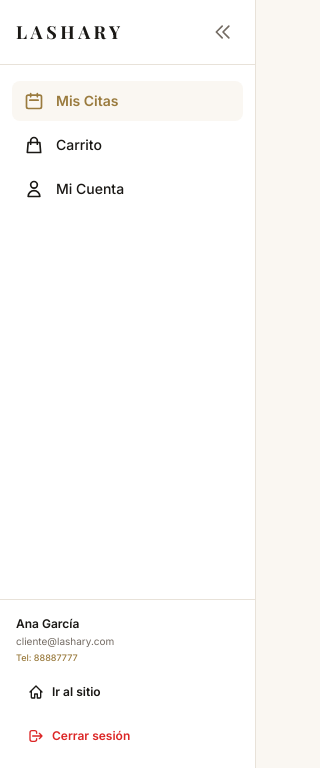
it: US-AUTH-02: Autenticación de Clientas con Google y Teléfono › Criterio 5: Renderiza ClientSidebar con navegación (Citas, Carrito, Cuenta), usuario y cerrar sesión
Expected: the link "LASHARY" is shown, [16, 18, 124, 46]
Expected: the text "Mis Citas" is shown, [56, 91, 118, 111]
What coordinates should you click on to do the following:
click the button named "colapsar barra"
I would click on:
 (223, 32)
Its box is [207, 16, 239, 48].
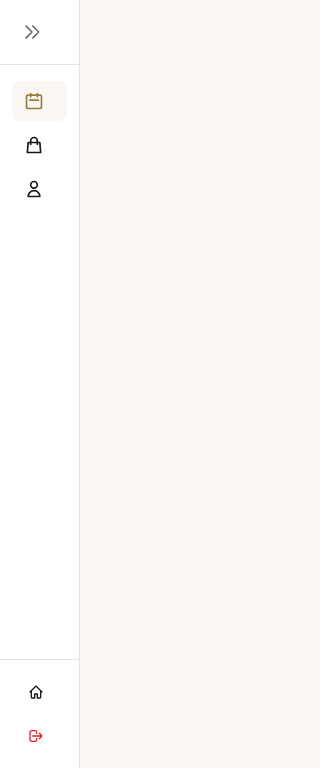
Expected: the link "LASHARY" is gone
What coordinates should you click on to do the following:
click the button named "expandir barra"
I would click on:
 (32, 32)
Its box is [16, 16, 48, 48].
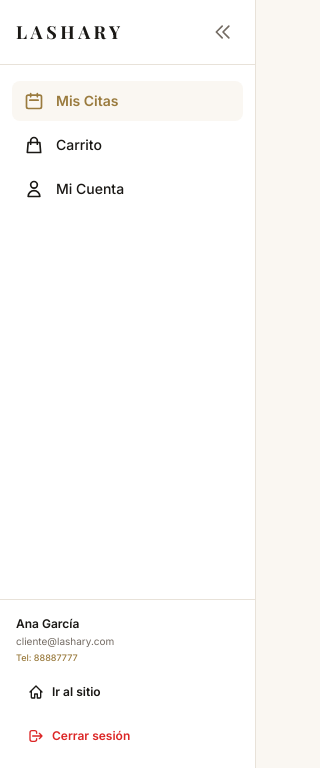
Expected: the link "LASHARY" is shown, [16, 18, 124, 46]
